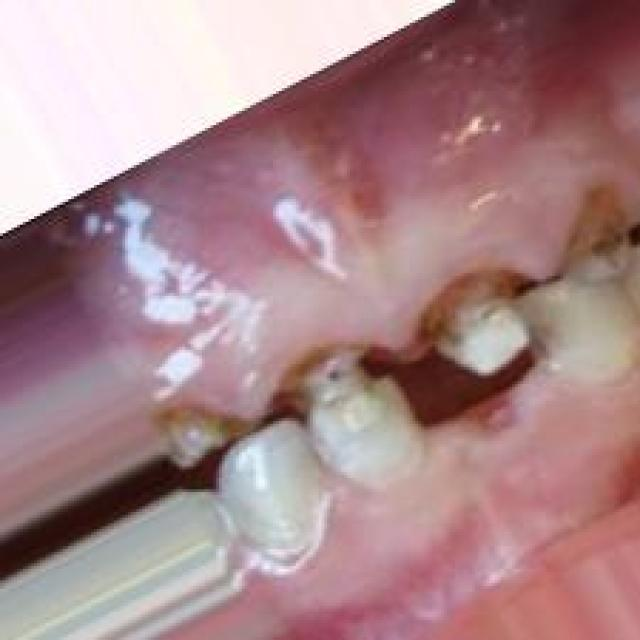caries: (265, 326, 425, 476), (402, 260, 542, 376), (542, 176, 640, 294), (151, 390, 254, 488)
